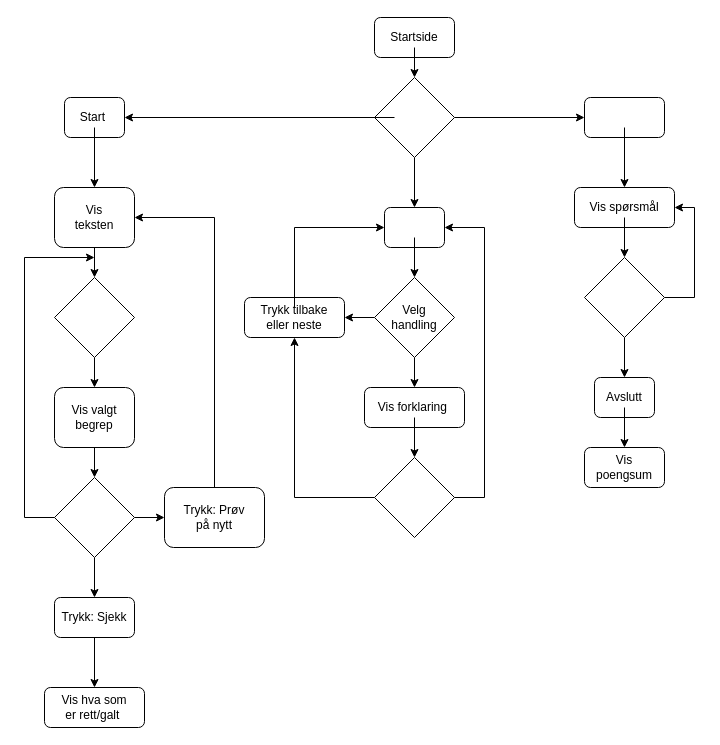
The diagram is 720 pixels wide and 745 high, and some of its shapes have lost their labels. Here are the shapes that lost their labels. From the top down, the centre of each, then its label:
At pixel 414 117: "Velg nettside".
At pixel 624 117: "Start quiz".
At pixel 414 227: "Vis begrep".
At pixel 94 317: "Velg begrep".
At pixel 624 297: "Velg alternativ".
At pixel 94 517: "Gjør handling".
At pixel 414 497: "Velg handlig".
